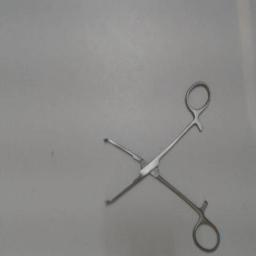Allis Tissue Forceps: (100, 77, 224, 255)
